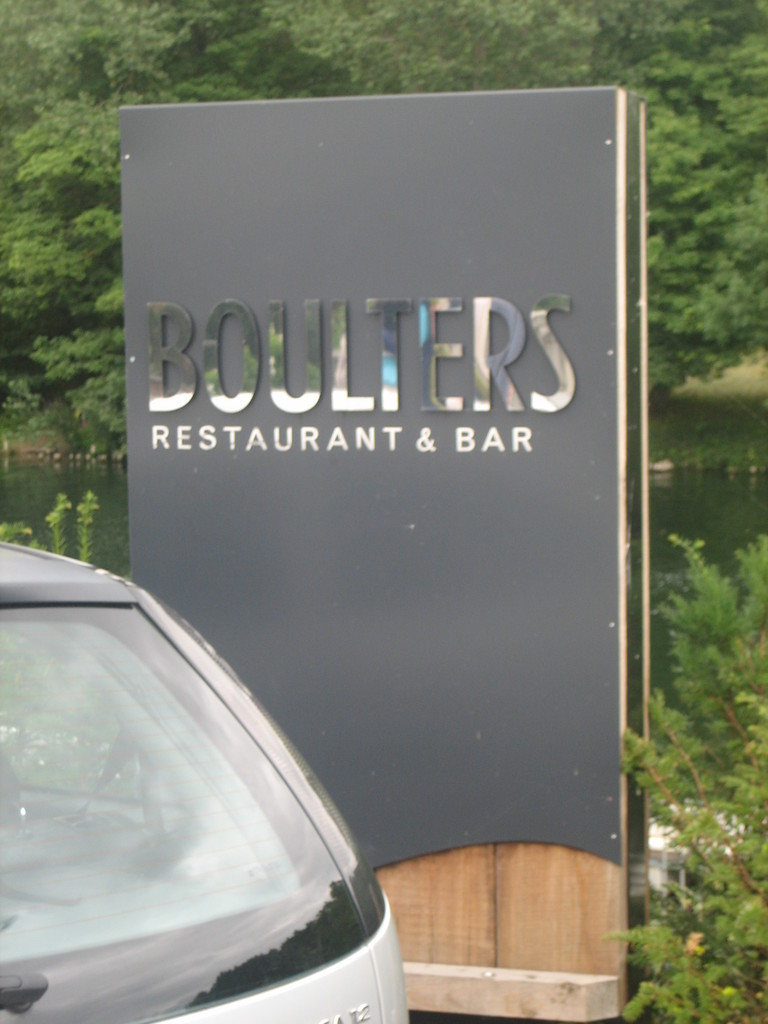Car: (5, 549, 380, 1024)
